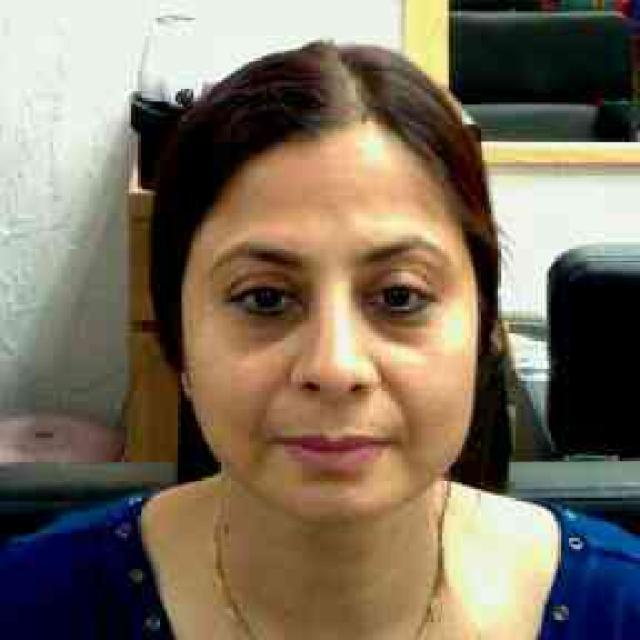Puffy Eyes - v3 Dark Circle: (239, 300, 313, 352), (362, 306, 426, 350)
